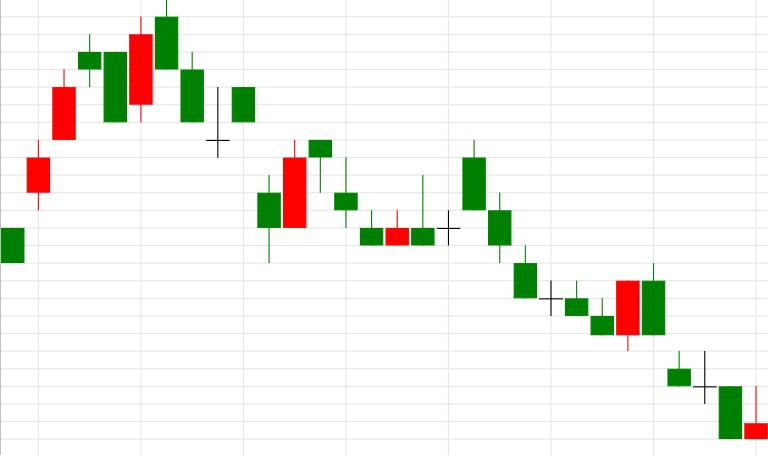bullish_engulfing_rise: (462, 140, 640, 352)
